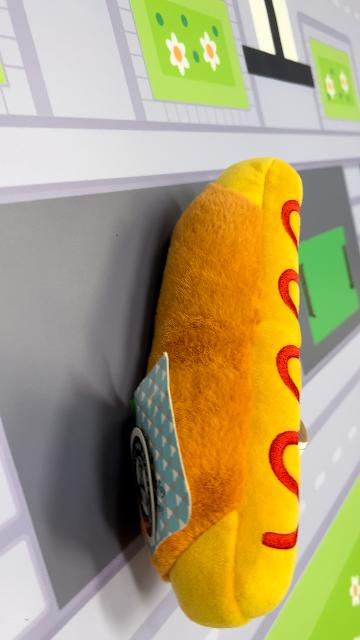hotdog: (130, 156, 306, 630)
